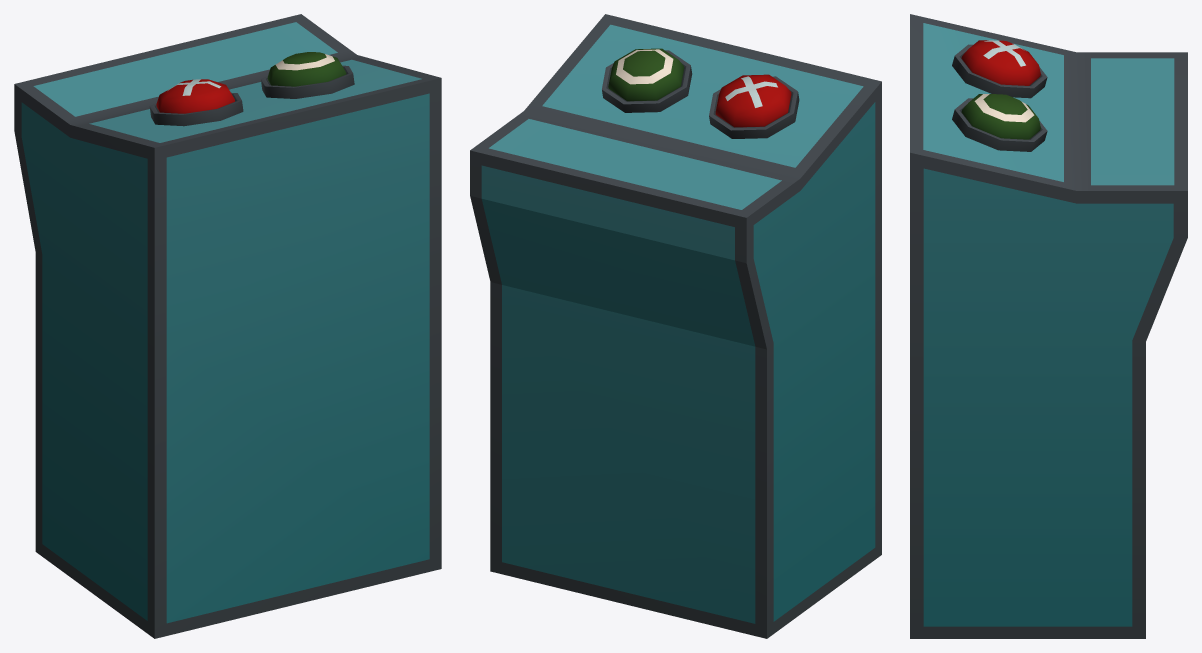
The model's file is squidgame_props_button1.fbx.
3 renders of one model, left to right at view 1: azimuth 30°, elevation 25°; view 2: azimuth 150°, elevation 25°; view 3: azimuth 270°, elevation 25°, orthographic. The views are drawn at different scales.
Visible parts, largest first — view 1: squidgame_props_button1; view 2: squidgame_props_button1; view 3: squidgame_props_button1.
Boxes of the visible parts, x1,y1,x2,y2 form: squidgame_props_button1: (14, 14, 441, 638); squidgame_props_button1: (470, 14, 881, 638); squidgame_props_button1: (910, 14, 1187, 638).
Bounding box in the file's own units: 0.4197 × 0.703 × 0.3556.
